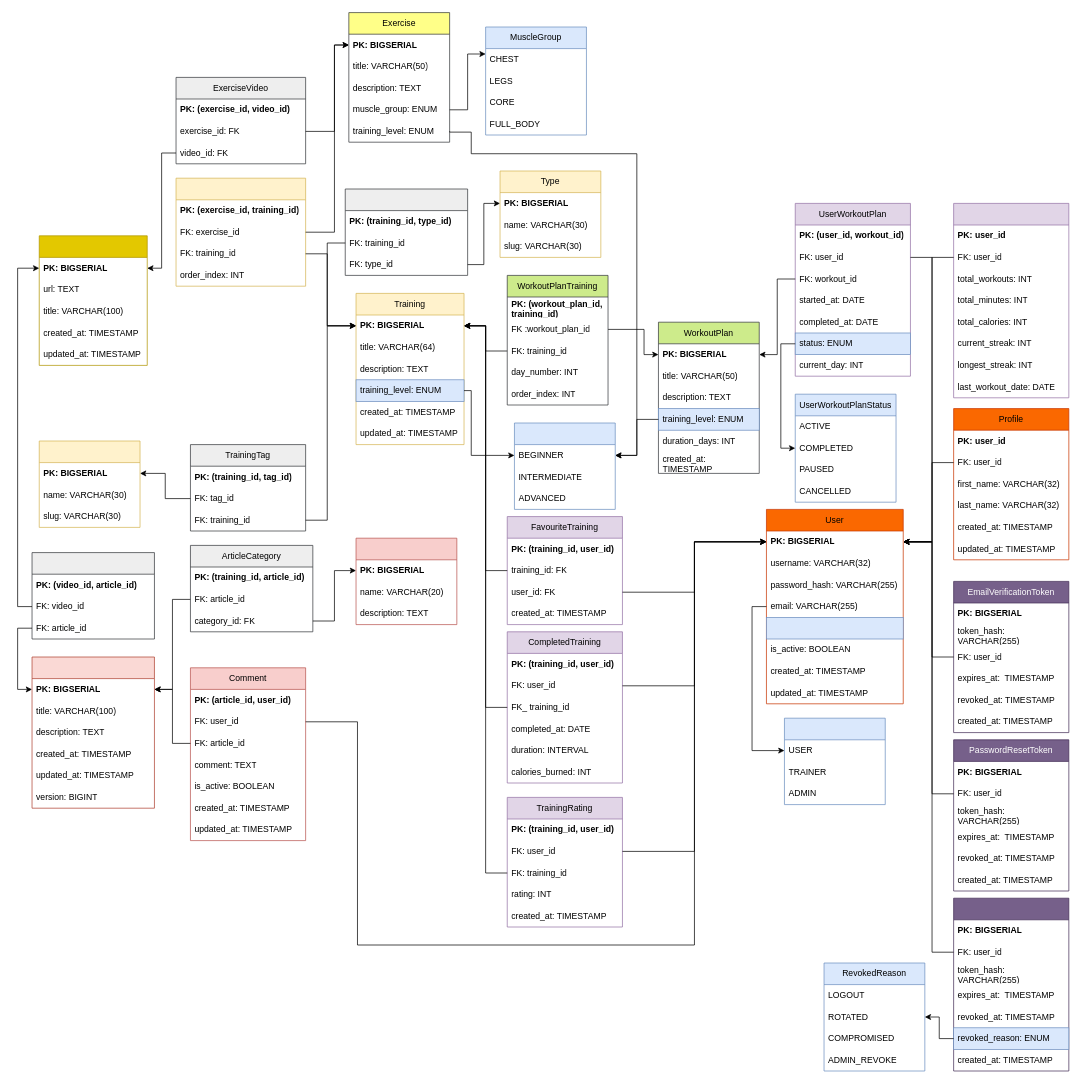
Image size: 1081x1084. Some labels were removed from this diagram. Each missing label, with the box of its shape:
Article: (31, 656, 154, 808)
ArticleVideo: (31, 552, 154, 639)
Category: (355, 537, 457, 625)
RefreshToken: (953, 897, 1069, 1071)
role: ENUM: (766, 617, 903, 639)
Tag: (39, 440, 140, 527)
TrainingExercise: (175, 177, 306, 286)
TrainingLevel: (514, 422, 615, 509)
TrainingType: (345, 188, 468, 275)
UserProgress: (953, 203, 1069, 398)
UserRole: (784, 717, 885, 805)
Video: (39, 235, 147, 365)
